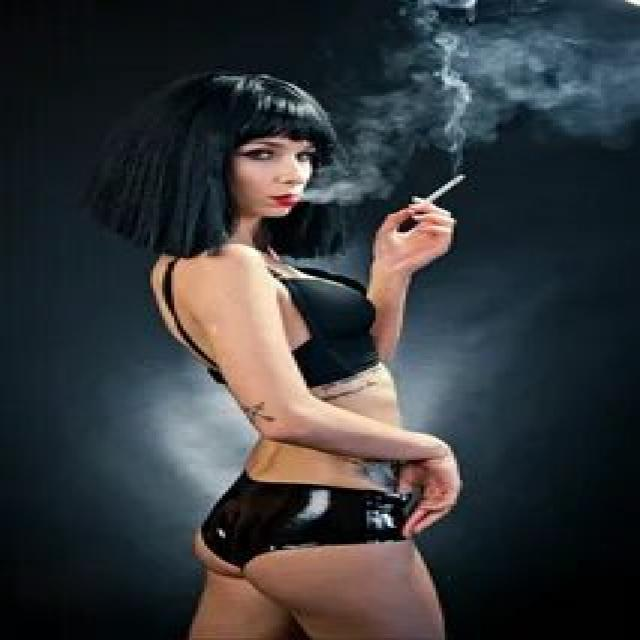smoke: (402, 168, 474, 220)
